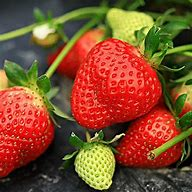Fresa: (71, 36, 165, 129), (114, 103, 192, 173), (1, 82, 56, 179)
